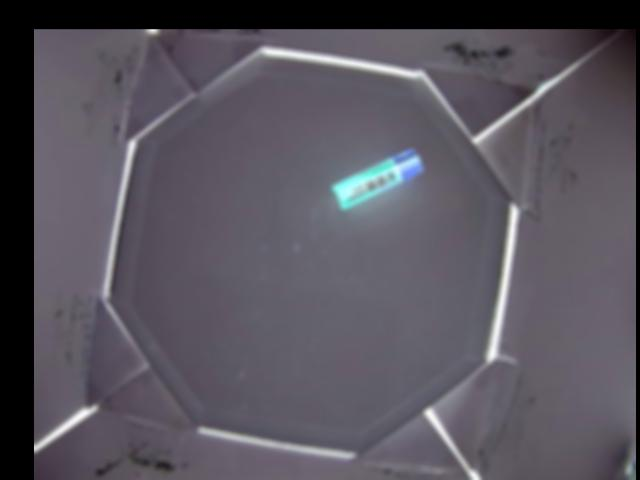Battery: (330, 148, 424, 211)
